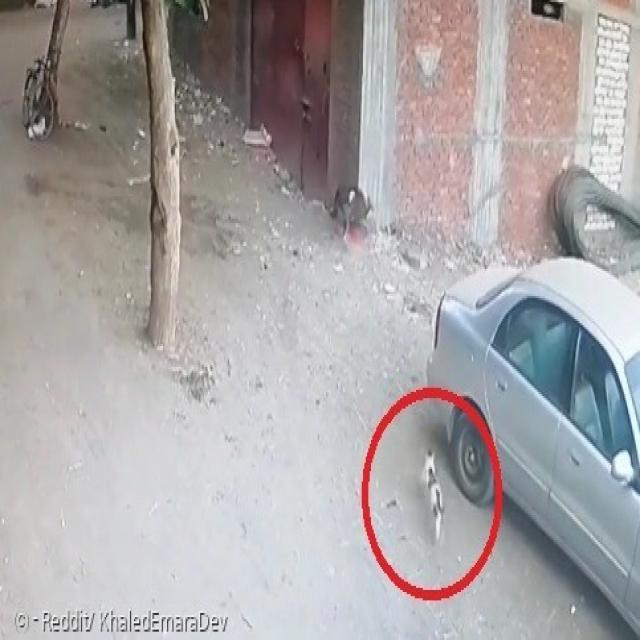cat: (412, 434, 457, 562)
